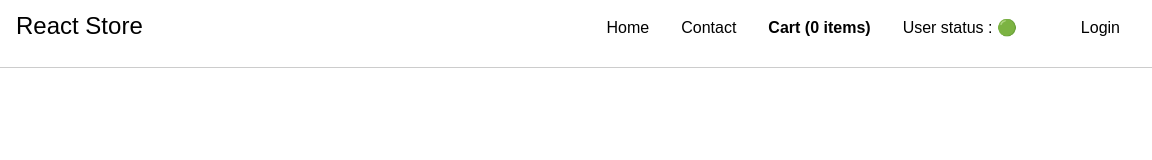
Test: Should check Login / Logout status
The image size is (1152, 160).
Click the list item "Login". click: (1100, 28)
box: [1081,16,1120,40]
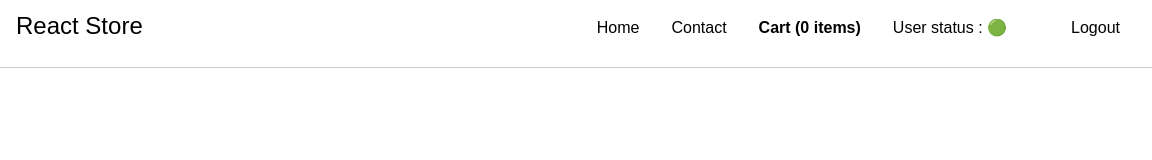
expect the list item "Logout" is shown: met, box [1071,16,1120,40]
